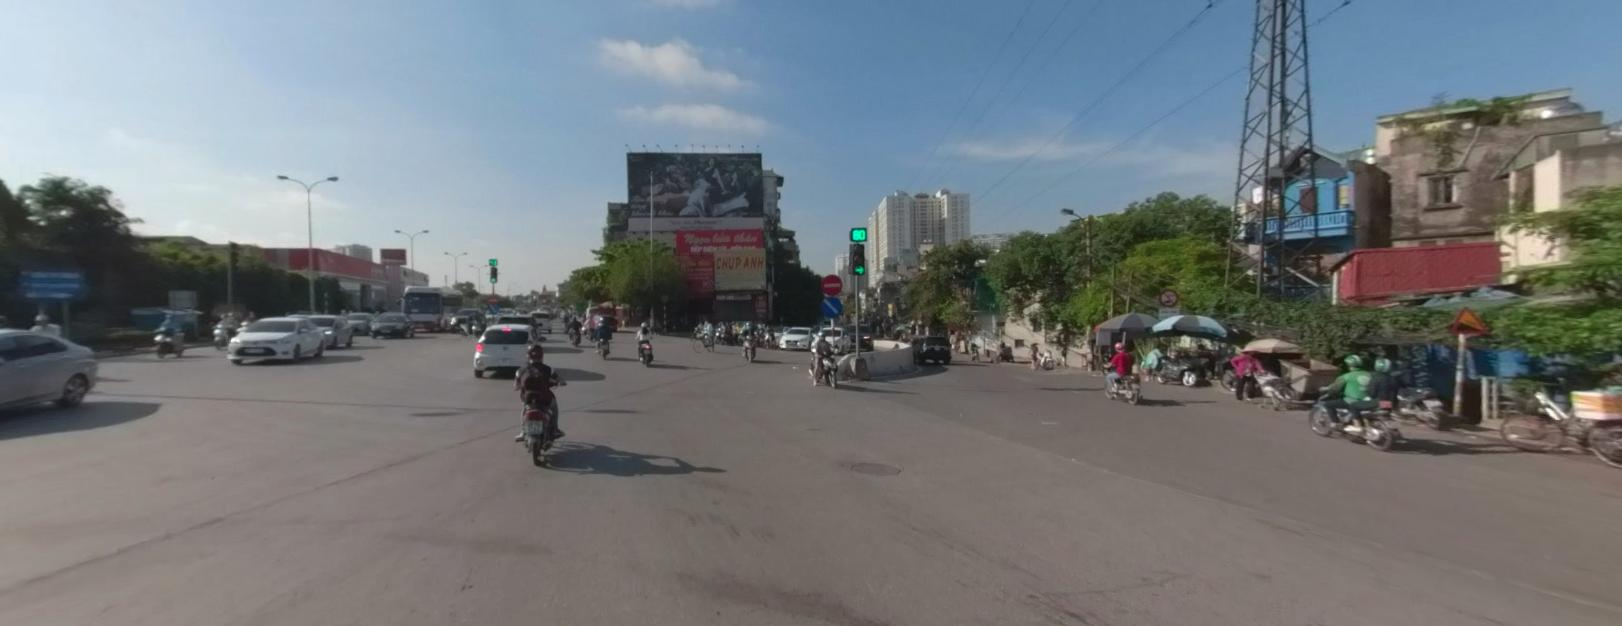Cam con lai: (1159, 287, 1178, 305)
Cam nguoc chieu: (821, 272, 842, 293), (486, 293, 498, 301)
Hieu lenh: (820, 294, 842, 316), (486, 300, 498, 311)
Nguy hiem: (1447, 305, 1492, 335)
